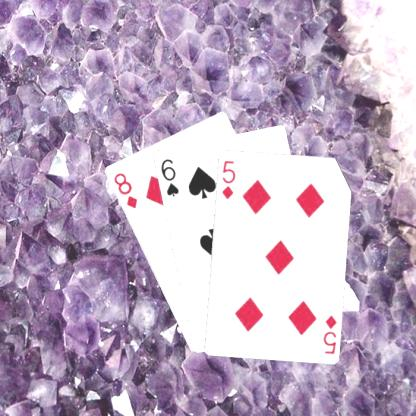5D: (320, 312, 338, 355), (218, 158, 236, 200)
6S: (158, 156, 180, 198)
8D: (110, 170, 138, 210)
